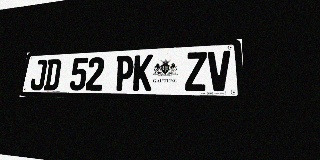2: (85, 57, 105, 91)
5: (69, 58, 89, 91)
D: (43, 59, 62, 90)
J: (29, 60, 48, 90)
K: (132, 54, 153, 91)
P: (114, 55, 134, 91)
V: (208, 51, 231, 91)
Z: (185, 52, 207, 91)
